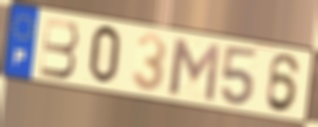0: (87, 23, 125, 90)
3: (130, 30, 169, 95)
5: (220, 44, 261, 108)
6: (264, 52, 301, 116)
B: (38, 16, 81, 81)
M: (167, 35, 223, 105)
